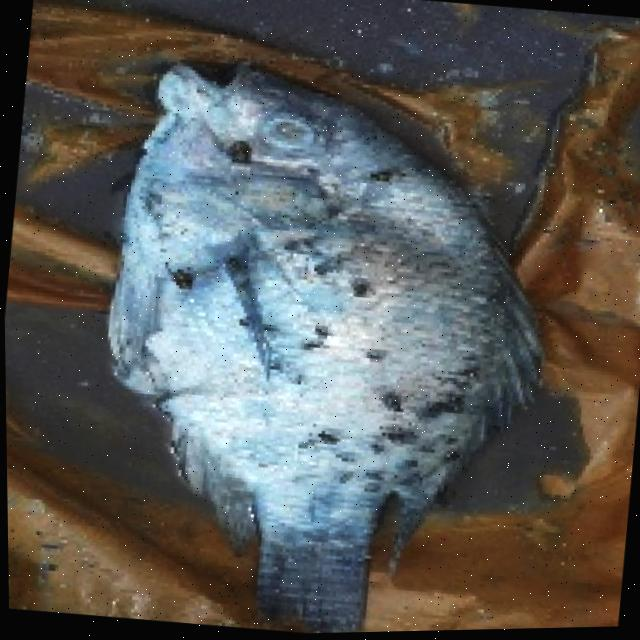Non-Fresh: (59, 41, 546, 597)
